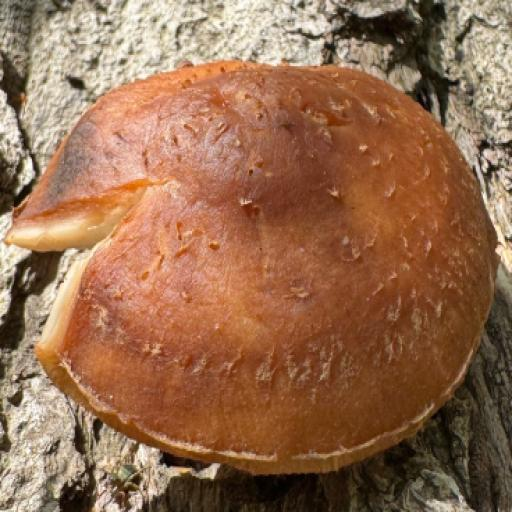Shiitake Mushroom: (6, 48, 509, 485)
